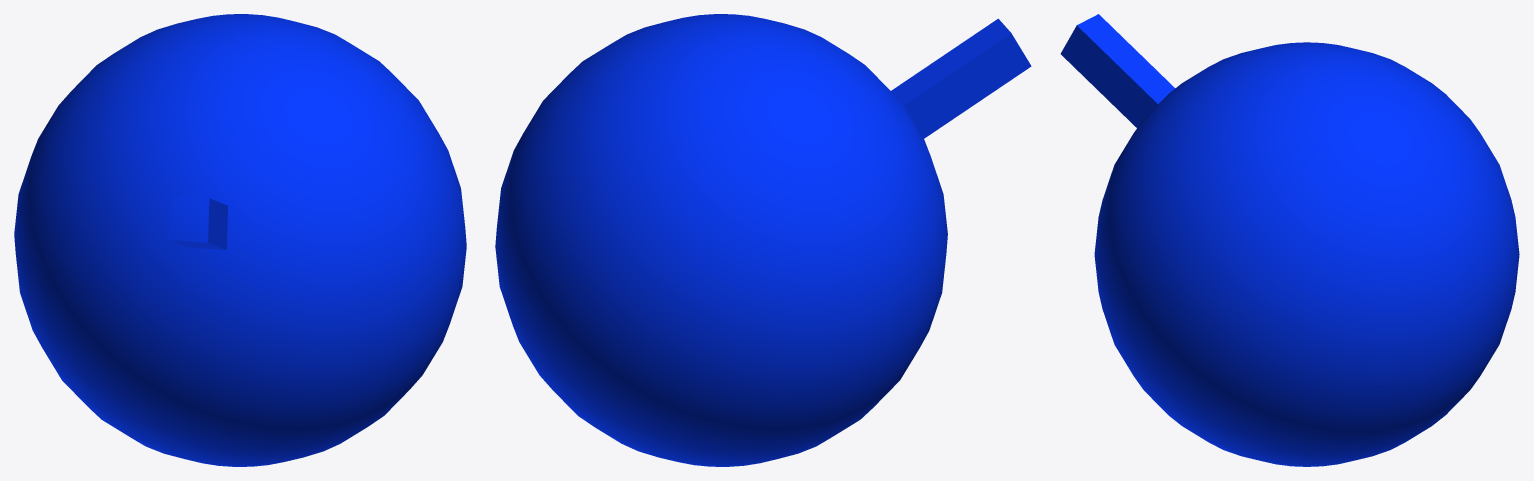
File: earth.fbx
3 views of the same model, side by side, from view 1: azimuth 30°, elevation 25°; view 2: azimuth 150°, elevation 25°; view 3: azimuth 270°, elevation 25° (orthographic). The views are drawn at different scales.
Parts seen in each view (by area): view 1: Sphere001; view 2: Sphere001; view 3: Sphere001.
Boxes of the visible parts, x1=… form: Sphere001: x1=14, y1=14, x2=466, y2=466; Sphere001: x1=495, y1=14, x2=1031, y2=466; Sphere001: x1=1060, y1=14, x2=1519, y2=466.
Bounding box in the file's own units: 2.36 × 2.36 × 2.55.
